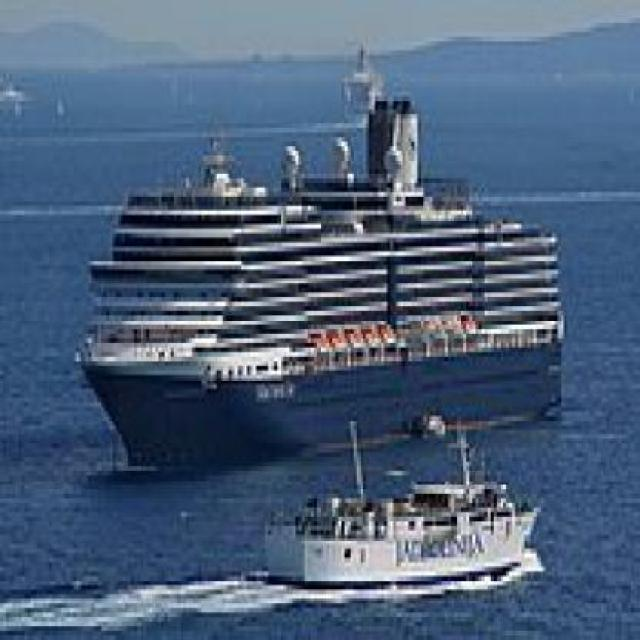cruise: (56, 37, 571, 454)
